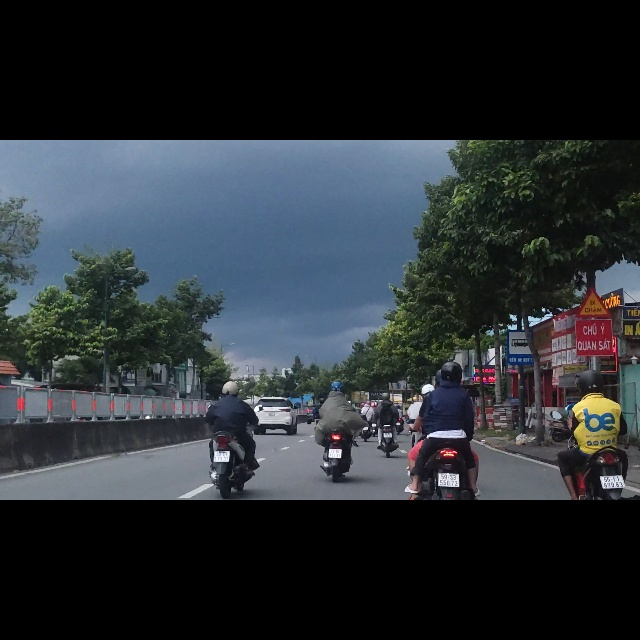bien_hieu_lenh: (507, 335, 535, 401), (576, 263, 610, 316)
